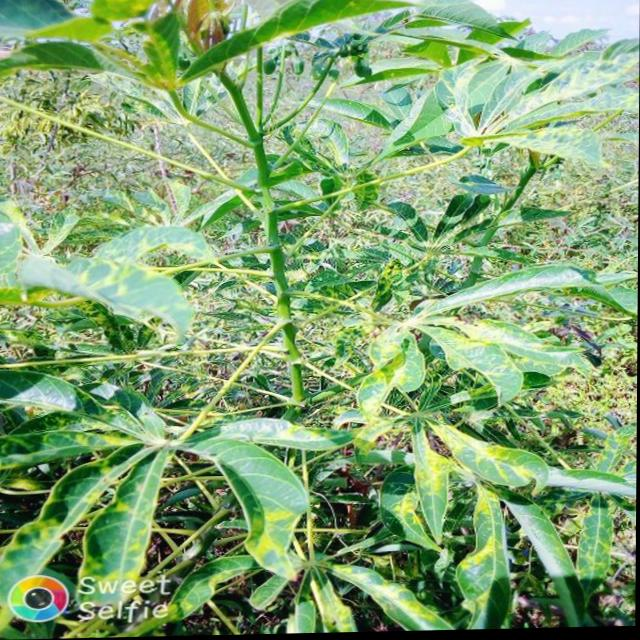Mosaico: (13, 410, 324, 597), (391, 404, 634, 613), (334, 265, 616, 390)
